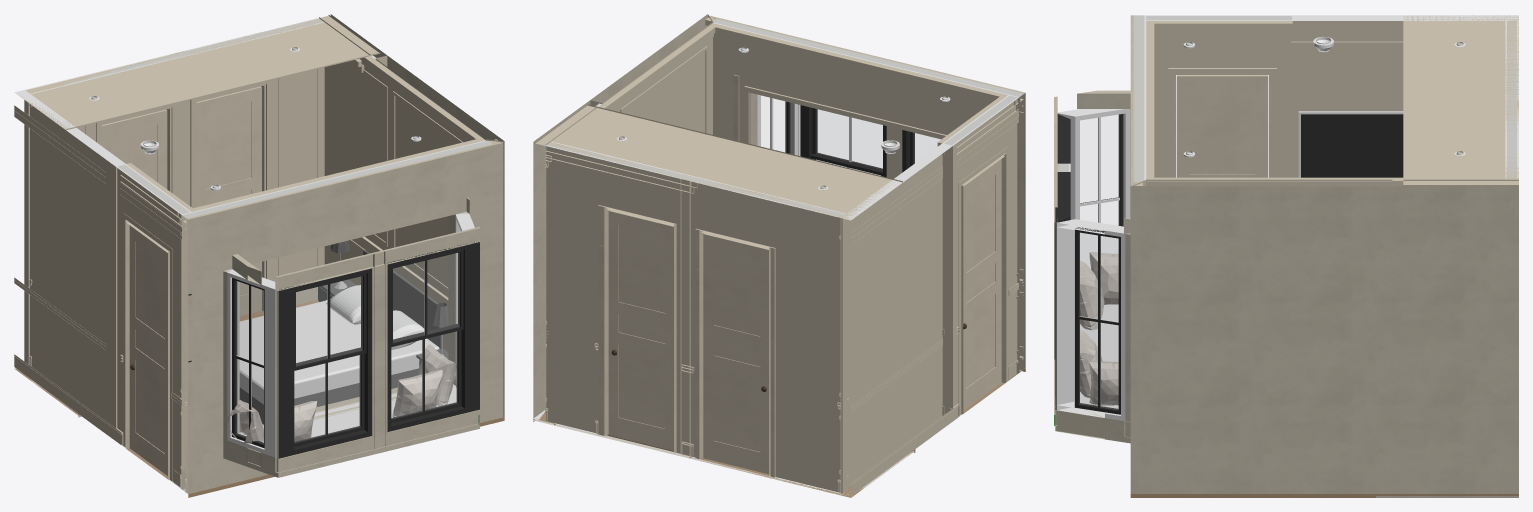
Rendered from loli-bedroom-6f3957222dbc.glb.
3 renders of one model, left to right at view 1: azimuth 30°, elevation 25°; view 2: azimuth 150°, elevation 25°; view 3: azimuth 270°, elevation 25°, orthographic. The views are drawn at different scales.
Visible parts, largest first — view 1: loli-bedroom-93447d0fea18c81b, loli-bedroom-6a1144f4e43410bb, loli-bedroom-fd1c2425c72e98e4, loli-bedroom-4cda501b4aaed82b, loli-bedroom-2575515a05775d9e, loli-bedroom-4be2558270762b51, loli-bedroom-0e637d2be41161fb, loli-bedroom-cf6d22c5317ced0b, loli-bedroom-527014f532f46c8e, loli-bedroom-592bd9af2ed71797, loli-bedroom-eceff908bd344cec, loli-bedroom-75b75731e5e739a5 (+29 smaller); view 2: loli-bedroom-0e637d2be41161fb, loli-bedroom-6a1144f4e43410bb, loli-bedroom-93447d0fea18c81b, loli-bedroom-5b37b110dc0e2cdc, loli-bedroom-eceff908bd344cec, loli-bedroom-2575515a05775d9e, loli-bedroom-68d06b361ac47823, loli-bedroom-cf6d22c5317ced0b, loli-bedroom-592bd9af2ed71797, loli-bedroom-4cda501b4aaed82b, loli-bedroom-e6c2d716d4dbef87, loli-bedroom-319244b3406409d9 (+19 smaller); view 3: loli-bedroom-592bd9af2ed71797, loli-bedroom-319244b3406409d9, loli-bedroom-2575515a05775d9e, loli-bedroom-53e6a9e479527da3, loli-bedroom-6a1144f4e43410bb, loli-bedroom-cf6d22c5317ced0b, loli-bedroom-68d06b361ac47823, loli-bedroom-527014f532f46c8e, loli-bedroom-8a8ceecced350b7e, loli-bedroom-93447d0fea18c81b, loli-bedroom-d8b729a36612415b, loli-bedroom-ad11484878029c25 (+17 smaller).
Boxes of the visible parts, box(x1,y1,x2,y2) form: loli-bedroom-93447d0fea18c81b: box(181, 140, 502, 494); loli-bedroom-6a1144f4e43410bb: box(14, 90, 125, 428); loli-bedroom-fd1c2425c72e98e4: box(279, 268, 371, 458); loli-bedroom-4cda501b4aaed82b: box(386, 241, 479, 431); loli-bedroom-2575515a05775d9e: box(17, 15, 380, 130); loli-bedroom-4be2558270762b51: box(239, 240, 448, 424); loli-bedroom-0e637d2be41161fb: box(24, 18, 324, 364); loli-bedroom-cf6d22c5317ced0b: box(129, 225, 167, 475); loli-bedroom-527014f532f46c8e: box(227, 270, 278, 458); loli-bedroom-592bd9af2ed71797: box(375, 55, 504, 416); loli-bedroom-eceff908bd344cec: box(196, 86, 261, 315); loli-bedroom-75b75731e5e739a5: box(277, 263, 478, 477); loli-bedroom-0e637d2be41161fb: box(545, 141, 847, 493); loli-bedroom-6a1144f4e43410bb: box(842, 143, 952, 495); loli-bedroom-93447d0fea18c81b: box(709, 15, 1025, 372); loli-bedroom-5b37b110dc0e2cdc: box(703, 233, 768, 474); loli-bedroom-eceff908bd344cec: box(608, 210, 673, 450); loli-bedroom-2575515a05775d9e: box(535, 104, 902, 220); loli-bedroom-68d06b361ac47823: box(942, 95, 1018, 420); loli-bedroom-cf6d22c5317ced0b: box(963, 159, 1001, 410); loli-bedroom-592bd9af2ed71797: box(590, 14, 712, 134); loli-bedroom-4cda501b4aaed82b: box(800, 105, 886, 177); loli-bedroom-e6c2d716d4dbef87: box(713, 23, 1018, 110); loli-bedroom-319244b3406409d9: box(533, 100, 601, 419); loli-bedroom-592bd9af2ed71797: box(1130, 179, 1392, 493); loli-bedroom-319244b3406409d9: box(1392, 179, 1518, 493); loli-bedroom-2575515a05775d9e: box(1403, 15, 1518, 186); loli-bedroom-53e6a9e479527da3: box(1056, 219, 1125, 421); loli-bedroom-6a1144f4e43410bb: box(1292, 15, 1518, 177); loli-bedroom-cf6d22c5317ced0b: box(1176, 75, 1268, 177); loli-bedroom-68d06b361ac47823: box(1146, 15, 1291, 177); loli-bedroom-527014f532f46c8e: box(1057, 109, 1130, 269); loli-bedroom-8a8ceecced350b7e: box(1298, 111, 1403, 177); loli-bedroom-93447d0fea18c81b: box(1130, 15, 1146, 185); loli-bedroom-d8b729a36612415b: box(1055, 234, 1130, 443); loli-bedroom-ad11484878029c25: box(1147, 177, 1391, 186).
Size of the model in its own units: 3.62 by 3.05 by 4.12.
Materials: 32 (5 with a texture image).
